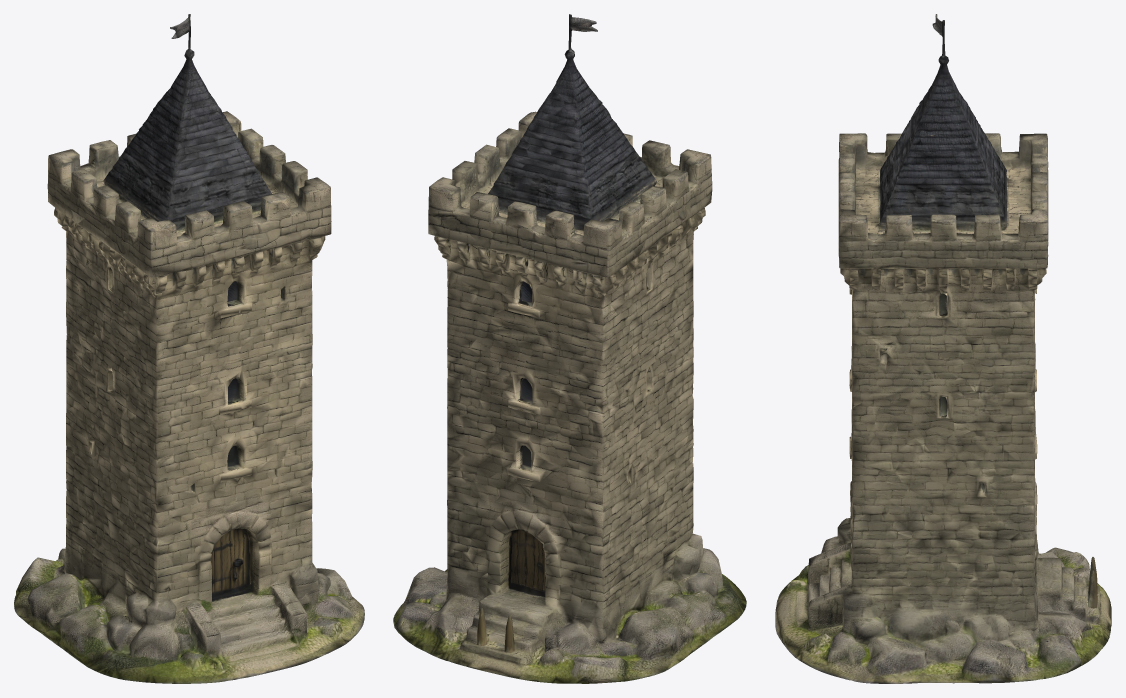
The model's file is fort_m_desert_tower.glb.
3 renders of one model, left to right at view 1: azimuth 30°, elevation 25°; view 2: azimuth 150°, elevation 25°; view 3: azimuth 270°, elevation 25°, orthographic.
Parts seen in each view (by area): view 1: fort_m_desert_tower; view 2: fort_m_desert_tower; view 3: fort_m_desert_tower.
Boxes of the visible parts, x1=… form: fort_m_desert_tower: x1=14, y1=14, x2=364, y2=683; fort_m_desert_tower: x1=393, y1=14, x2=746, y2=683; fort_m_desert_tower: x1=775, y1=14, x2=1111, y2=683.
Bounding box in the file's own units: 0.9055 × 1.9 × 0.9693.
Materials: 1 (1 with a texture image).
